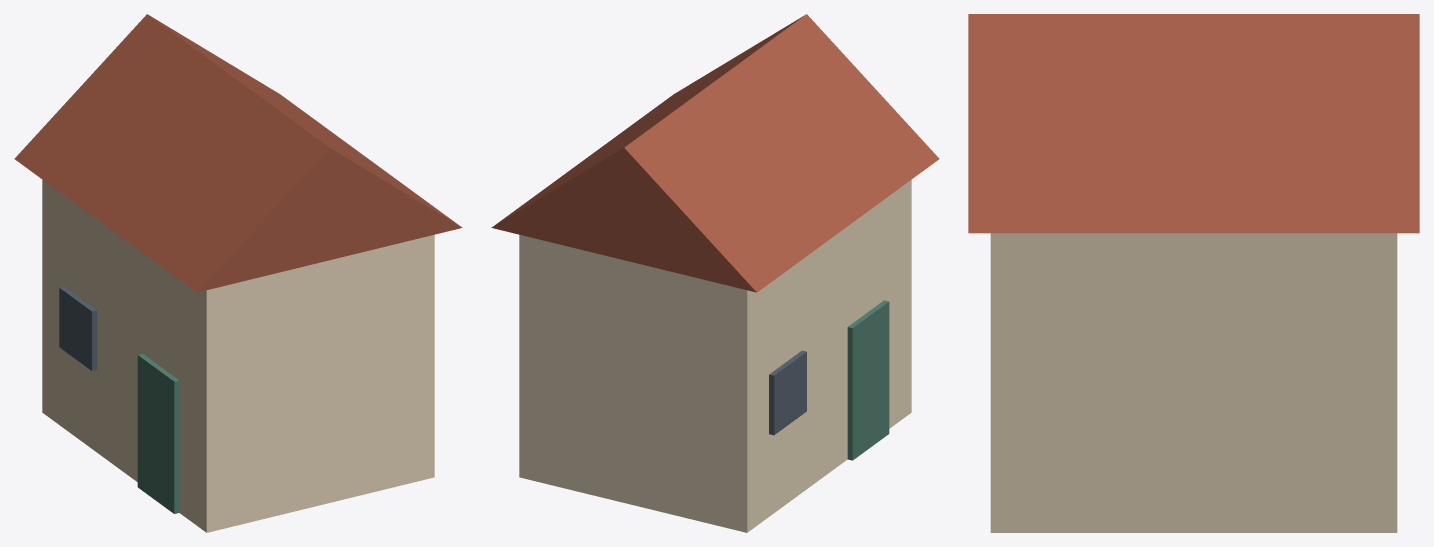
The model's file is SM_House_B.fbx.
3 views of the same model, side by side, from view 1: azimuth 30°, elevation 25°; view 2: azimuth 150°, elevation 25°; view 3: azimuth 270°, elevation 25° (orthographic). The views are drawn at different scales.
Visible parts, largest first — view 1: Body.001, Roof.001, Door.001, Window_A.001; view 2: Body.001, Roof.001, Door.001, Window_A.001; view 3: Body.001, Roof.001.
Boxes of the visible parts, <box> form: Body.001: <box>42,180,434,532</box>; Roof.001: <box>14,14,462,292</box>; Door.001: <box>137,354,179,513</box>; Window_A.001: <box>59,286,97,370</box>; Body.001: <box>519,180,911,532</box>; Roof.001: <box>491,14,939,292</box>; Door.001: <box>847,300,889,460</box>; Window_A.001: <box>769,350,806,435</box>; Body.001: <box>990,233,1397,532</box>; Roof.001: <box>968,14,1419,233</box>.
Size of the model in its own units: 4.2 by 5.5 by 5.
